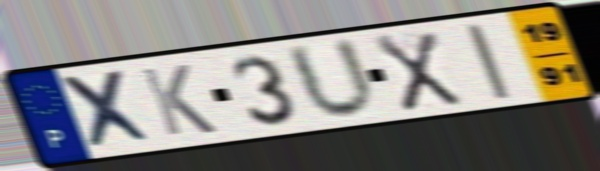3: (230, 52, 297, 127)
I: (460, 21, 516, 103)
K: (136, 62, 222, 139)
U: (280, 35, 382, 123)
X: (54, 67, 162, 153), (369, 29, 466, 115)
